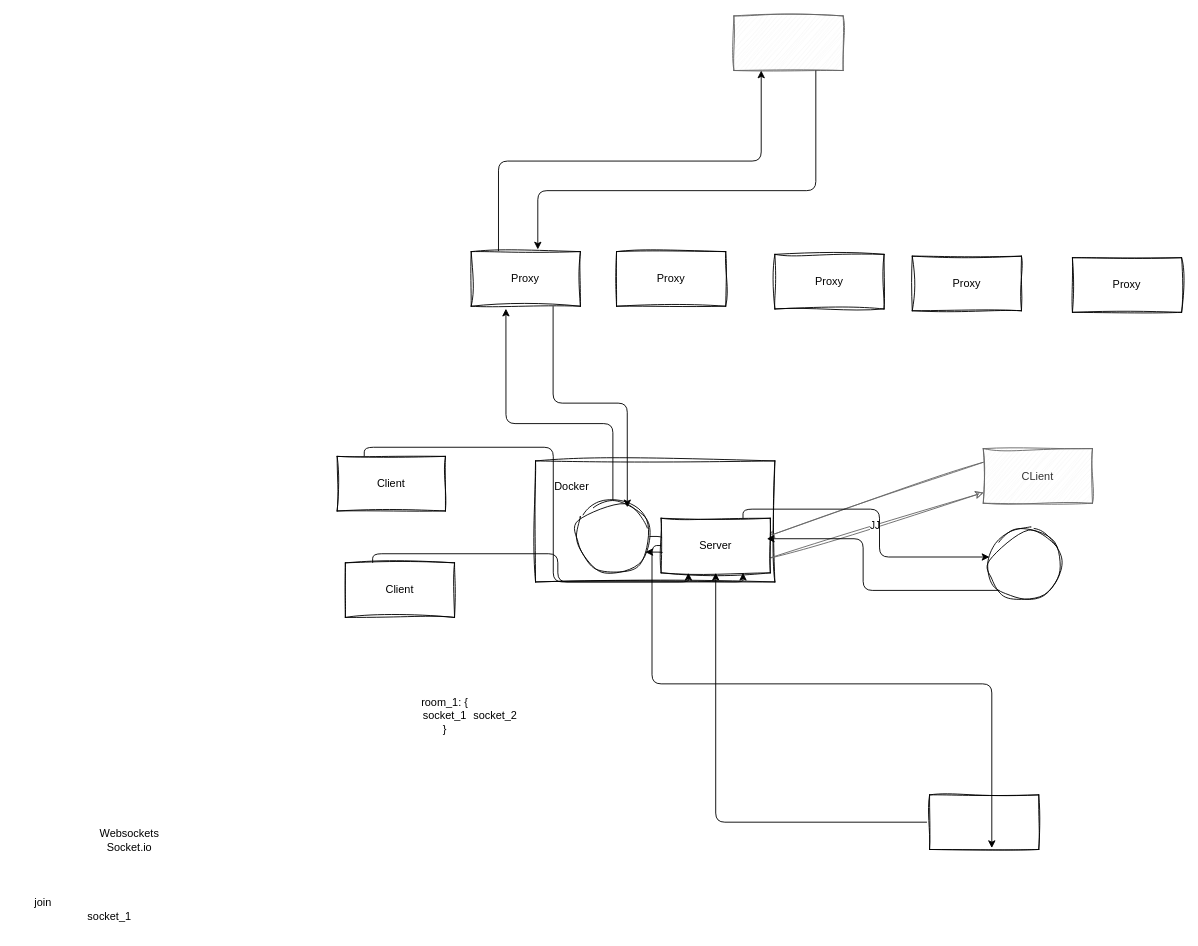
Some shapes in this 1198 by 946 pixel diagram are drawn without their labels. Each missing label, with the box of its shape:
NeonDB Prisma: (929, 794, 1039, 849)
Redis: (988, 527, 1062, 601)
terminal: (576, 499, 649, 573)
Youtube.com: (733, 15, 843, 71)
